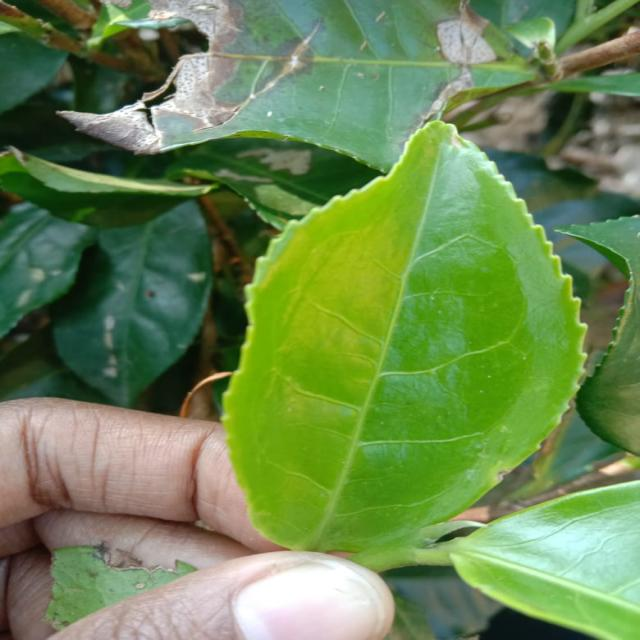Category B(2-4 days): (200, 114, 588, 569)
